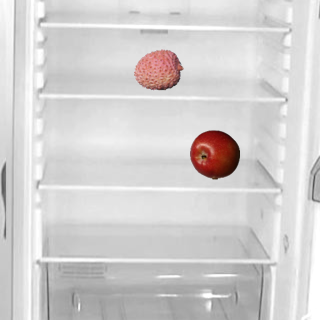Apple Braeburn: (189, 129, 239, 179)
Lychee: (133, 44, 183, 94)
